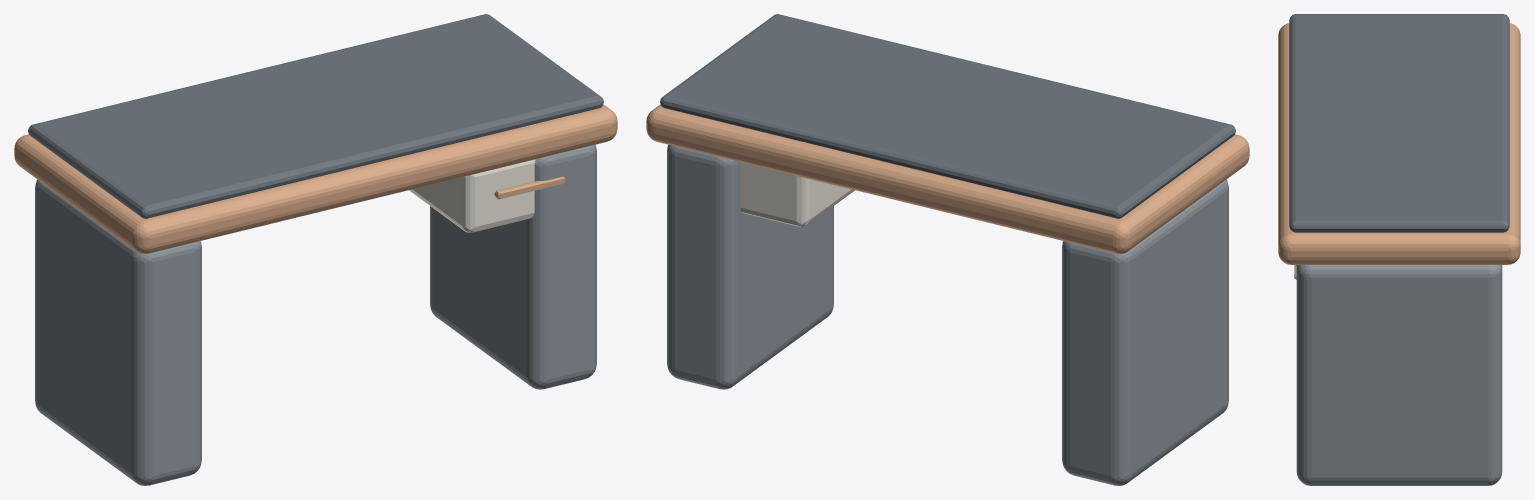
Rendered from library_writing_desk.glb.
3 views of the same model, side by side, from view 1: azimuth 30°, elevation 25°; view 2: azimuth 150°, elevation 25°; view 3: azimuth 270°, elevation 25° (orthographic). The views are drawn at different scales.
Parts seen in each view (by area): view 1: shell_002, shell_003, shell_005, shell_001, shell_007, shell_008; view 2: shell_002, shell_003, shell_005, shell_001, shell_007; view 3: shell_002, shell_005, shell_001.
Boxes of the visible parts, x1,y1,x2,y2 form: shell_002: (28,14,603,218); shell_003: (35,179,201,485); shell_005: (430,144,596,389); shell_001: (14,104,617,254); shell_007: (409,159,535,232); shell_008: (494,176,565,199); shell_002: (660,14,1235,218); shell_003: (1062,179,1228,485); shell_005: (667,144,833,389); shell_001: (646,104,1249,254); shell_007: (740,162,854,227); shell_002: (1289,14,1509,232); shell_005: (1296,265,1502,485); shell_001: (1278,23,1520,264).
Size of the model in its own units: 1.42 by 0.8045 by 0.66.
